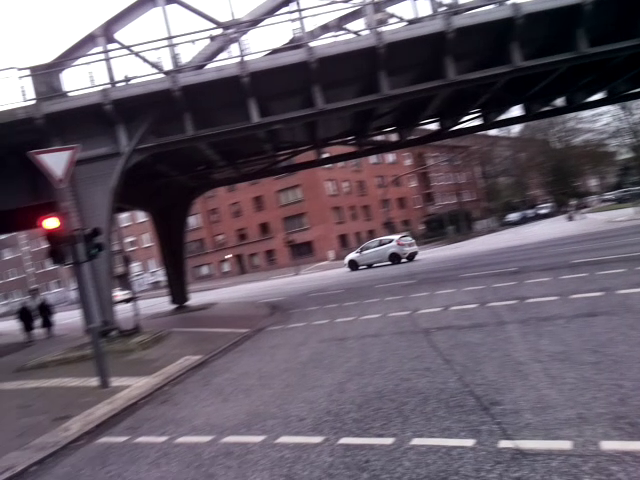car: (341, 234, 420, 268)
